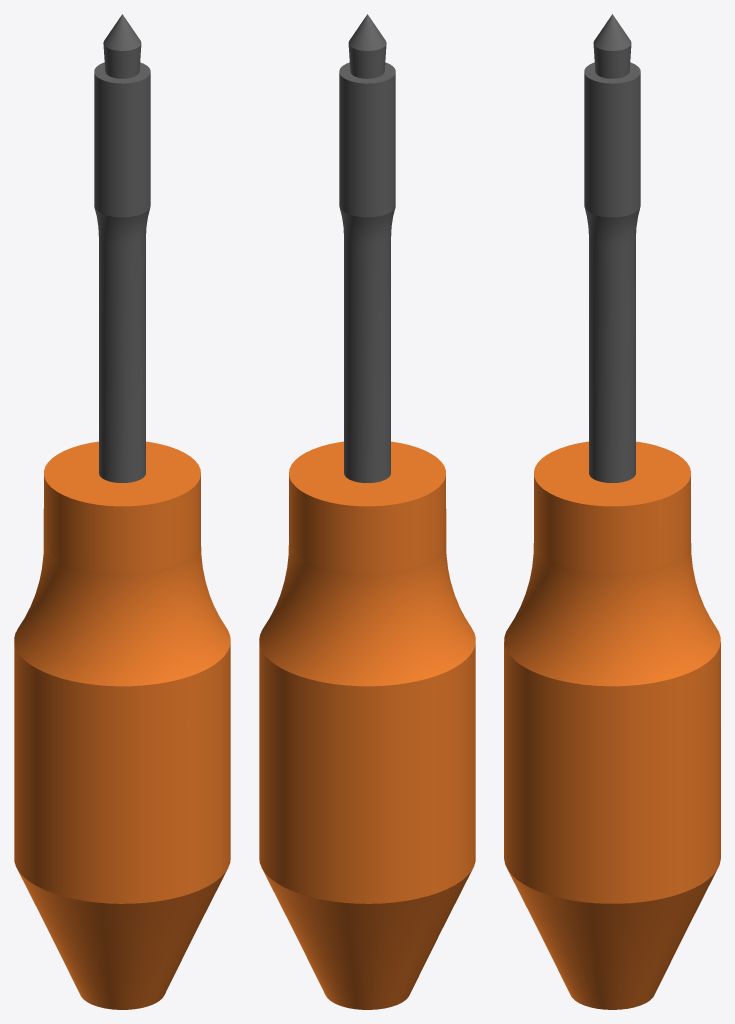
File: trusty_screwdriver.obj
The picture shows the model from 3 angles, left to right: view 1: azimuth 30°, elevation 25°; view 2: azimuth 150°, elevation 25°; view 3: azimuth 270°, elevation 25°; orthographic projection.
Visible parts, largest first — view 1: Linus_tech_tip's_screw_driver; view 2: Linus_tech_tip's_screw_driver; view 3: Linus_tech_tip's_screw_driver.
Boxes of the visible parts, box(x1,y1,x2,y2) form: Linus_tech_tip's_screw_driver: box(14, 14, 230, 1009); Linus_tech_tip's_screw_driver: box(259, 14, 475, 1009); Linus_tech_tip's_screw_driver: box(504, 14, 720, 1009).
Bounding box in the file's own units: 0.0961 × 0.4789 × 0.0962.
